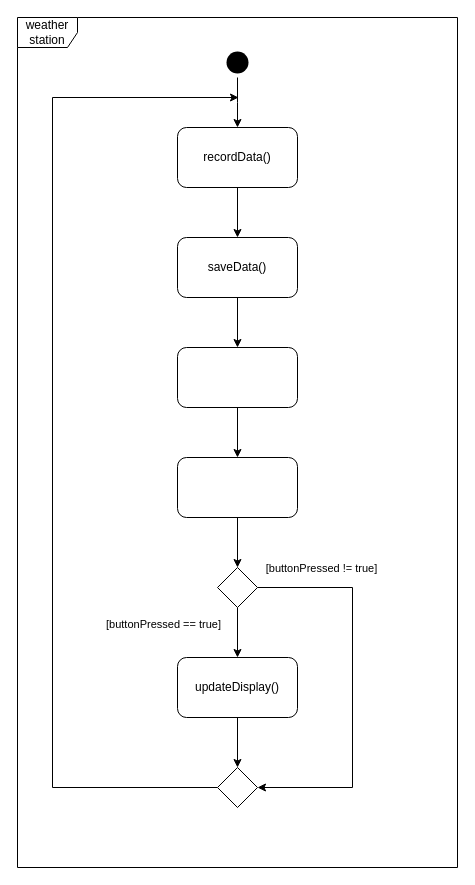
This 475x885 diagram has some shape labels left out. Each missing label, with the box of its shape:
buttonISR(): (176, 456, 298, 518)
transferData(): (176, 346, 298, 408)
